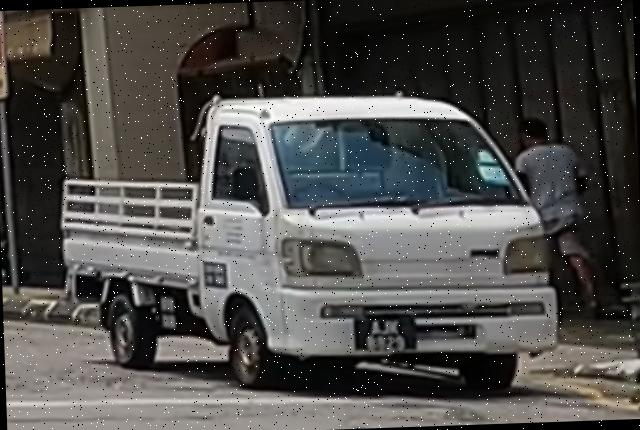License_Plate: (355, 314, 416, 356)
car: (55, 83, 563, 406)
